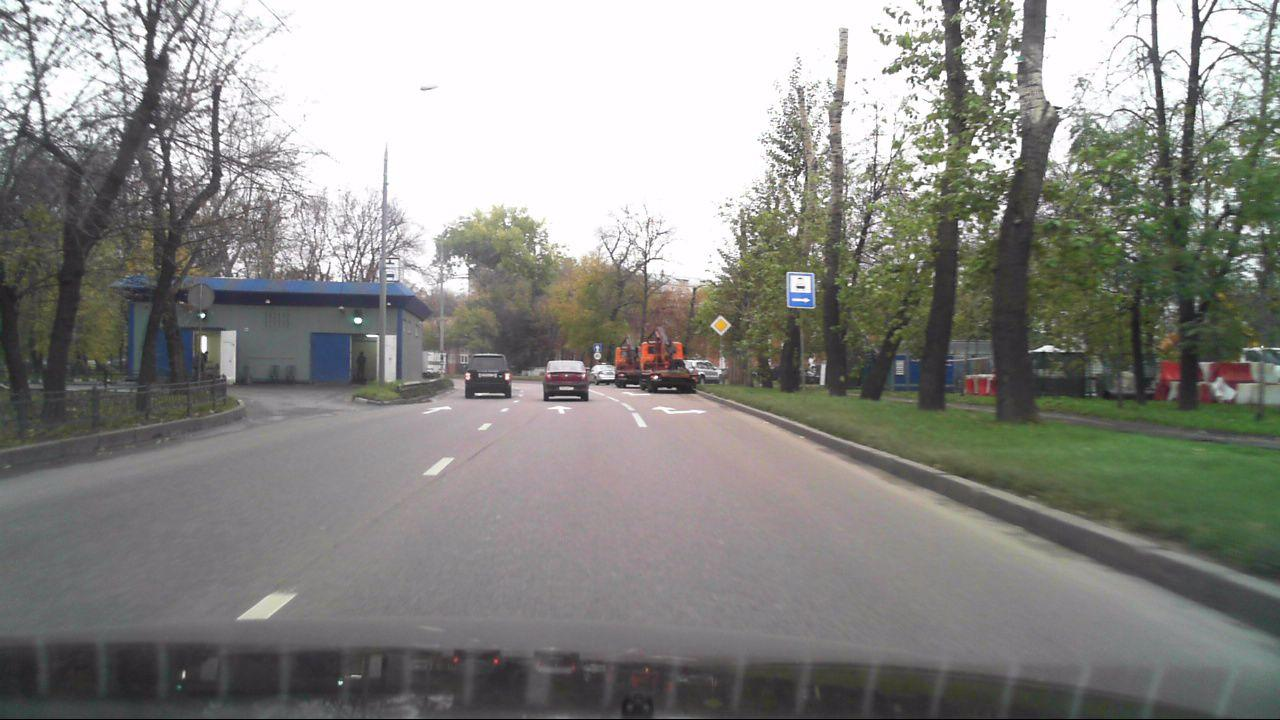2_1: (710, 311, 731, 336)
7_5: (786, 270, 816, 309)
